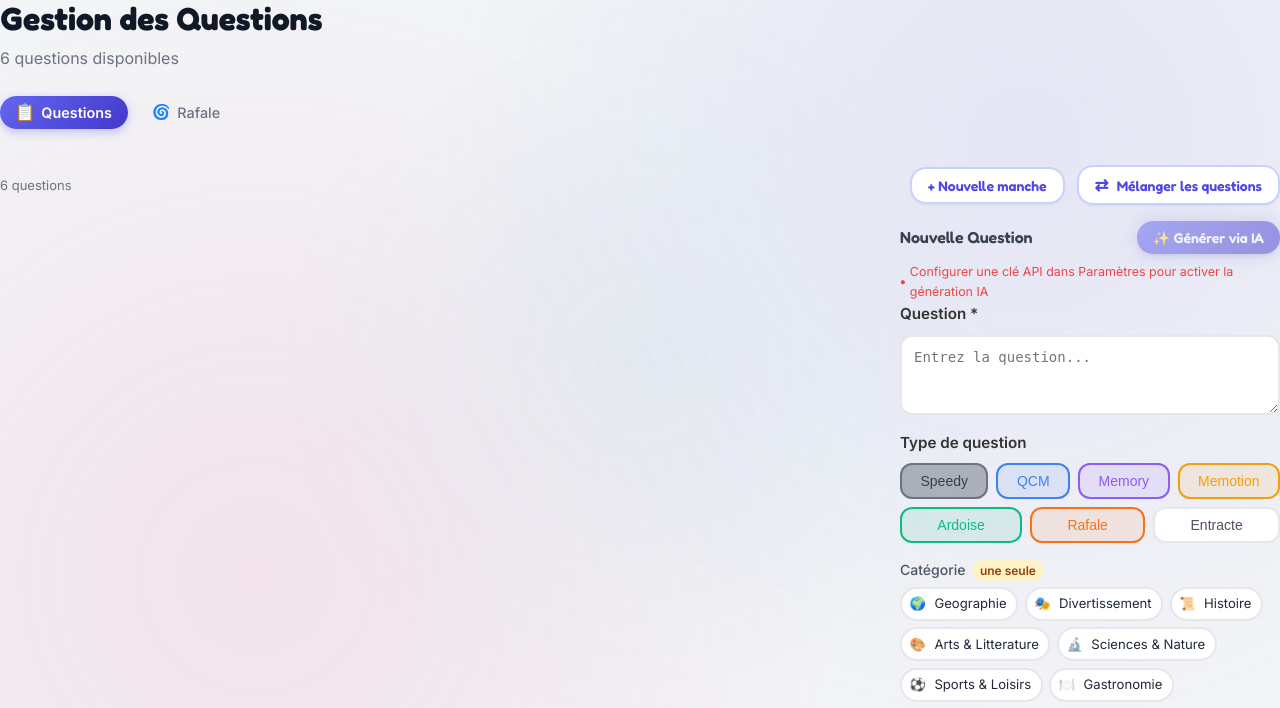
Scenario: QuestionsPage — Mélanger les questions (#149) › affiche un toast de succès après un mélange envoyé
This screenshot has width=1280, height=708.
Click the button "⇄ Mélanger les questions" at {"x": 1178, "y": 185}, box top-left (1077, 165), bottom-right (1279, 205)
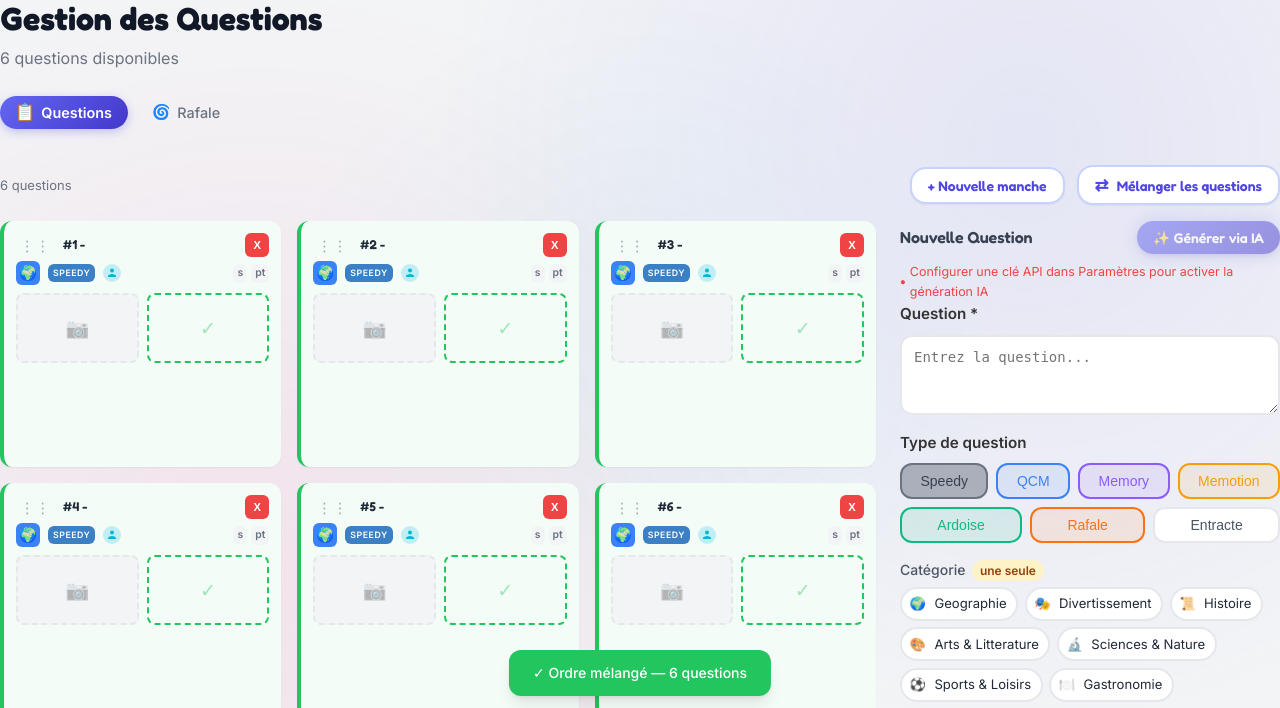
Result: the text "✓ Ordre mélangé — 6 questions" is shown at top-left (509, 650), bottom-right (771, 696)
